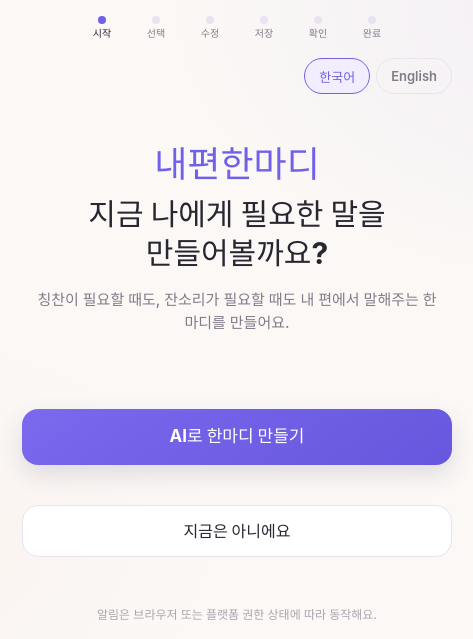
it: 내편한마디 v0.5: AI candidate flow + local persistence + i18n › renders landing labels in Korean and English
Expected: the heading "내편한마디" is shown, [154,142,320,186]
Expected: the heading "지금 나에게 필요한 말을 만들어볼까요?" is shown, [88,196,386,271]
What coordinates should you click on to do the following:
click the button "English"
I would click on:
 (414, 76)
Its box is [376,58,452,94].
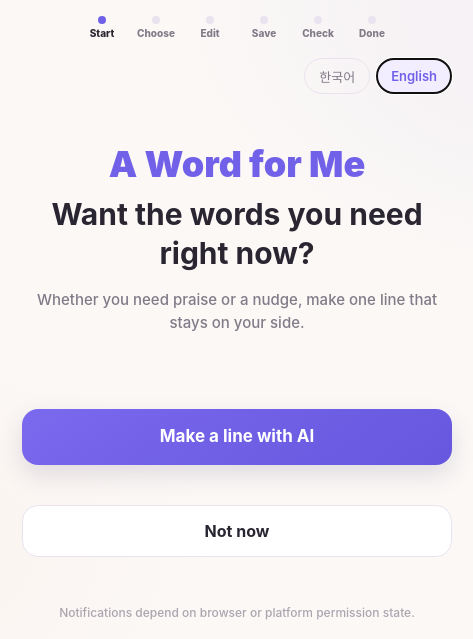
Now the heading "A Word for Me" is shown, box [109,142,365,186]
Now the heading "Want the words you need right now?" is shown, box [32,195,442,273]
Now the button "Make a line with AI" is shown, box [22,409,452,465]
